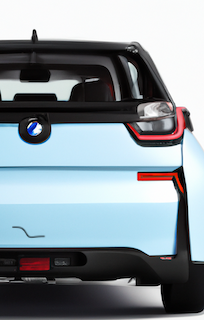scratch: (7, 216, 45, 243)
